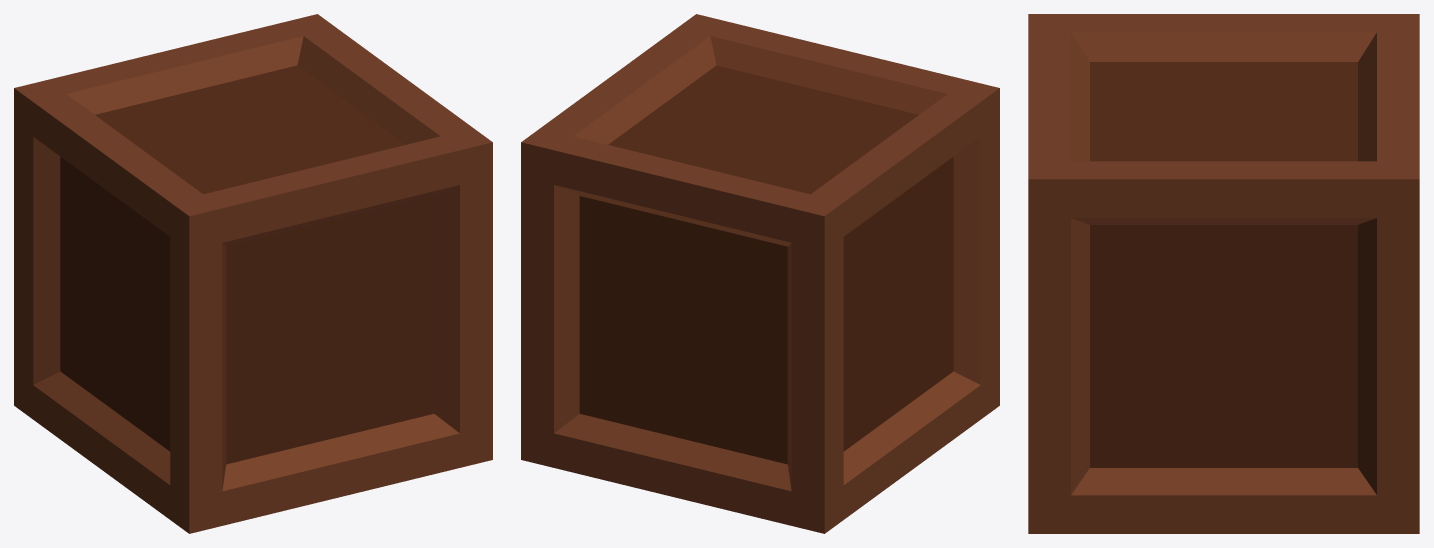
File: WoodenBox.glb
3 views of the same model, side by side, from view 1: azimuth 30°, elevation 25°; view 2: azimuth 150°, elevation 25°; view 3: azimuth 270°, elevation 25° (orthographic). The views are drawn at different scales.
Visible parts, largest first — view 1: WoodenBox-col; view 2: WoodenBox-col; view 3: WoodenBox-col.
Part boxes in pixels (x1=…): WoodenBox-col: x1=14, y1=14, x2=492, y2=533; WoodenBox-col: x1=521, y1=14, x2=999, y2=533; WoodenBox-col: x1=1028, y1=14, x2=1419, y2=533.
Size of the model in its own units: 4.25 by 4.25 by 4.25.
1 material, 1 textured.
